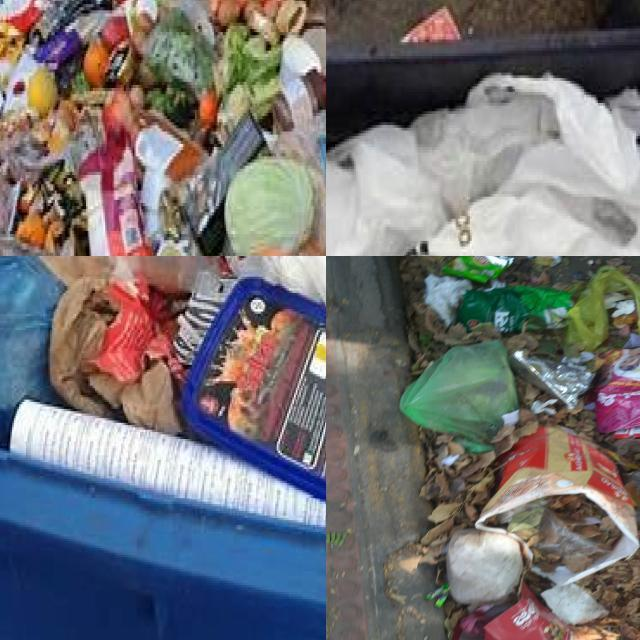Garbage: (401, 256, 640, 640), (0, 256, 326, 528), (326, 73, 640, 256)
Plastic_Bag: (399, 340, 518, 454), (0, 256, 66, 446), (452, 584, 592, 640), (565, 266, 640, 352), (446, 529, 523, 606), (535, 508, 603, 557)
Plastic_Container: (181, 274, 326, 500)
Plastic_bottle: (30, 256, 223, 299)
Plastic_wraper: (476, 427, 639, 584), (80, 131, 153, 256), (94, 278, 177, 385), (457, 287, 573, 332), (509, 351, 594, 409), (594, 347, 640, 433), (35, 30, 82, 72), (443, 256, 514, 283), (613, 425, 640, 439)
